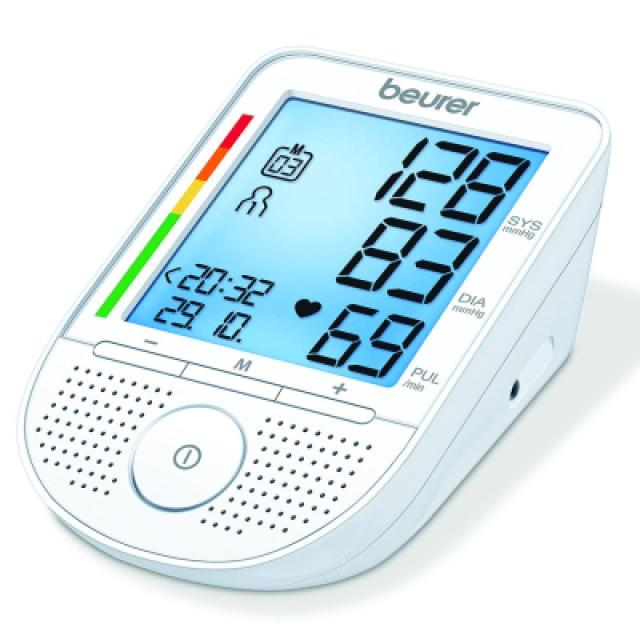dia: (319, 199, 492, 324)
pul: (284, 283, 435, 395)
ssd: (125, 7, 549, 463)
sys: (362, 115, 548, 239)
